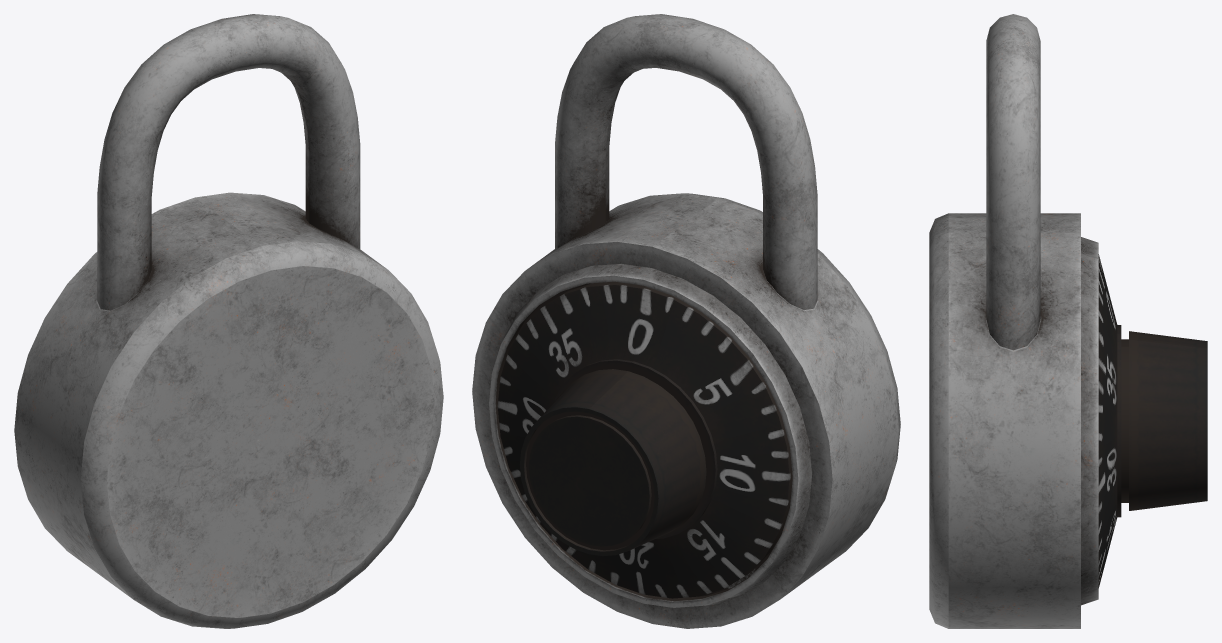
File: SM_Lock.fbx
The picture shows the model from 3 angles, left to right: view 1: azimuth 30°, elevation 25°; view 2: azimuth 150°, elevation 25°; view 3: azimuth 270°, elevation 25°; orthographic projection.
Parts seen in each view (by area): view 1: SM_Lock_LOD0; view 2: SM_Lock_LOD0; view 3: SM_Lock_LOD0.
Part boxes in pixels (x1=…): SM_Lock_LOD0: x1=14, y1=14, x2=443, y2=628; SM_Lock_LOD0: x1=472, y1=14, x2=900, y2=628; SM_Lock_LOD0: x1=929, y1=14, x2=1207, y2=628.
Bounding box in the file's own units: 5.3 × 3.54 × 8.13.
Materials: 1 (1 with a texture image).
